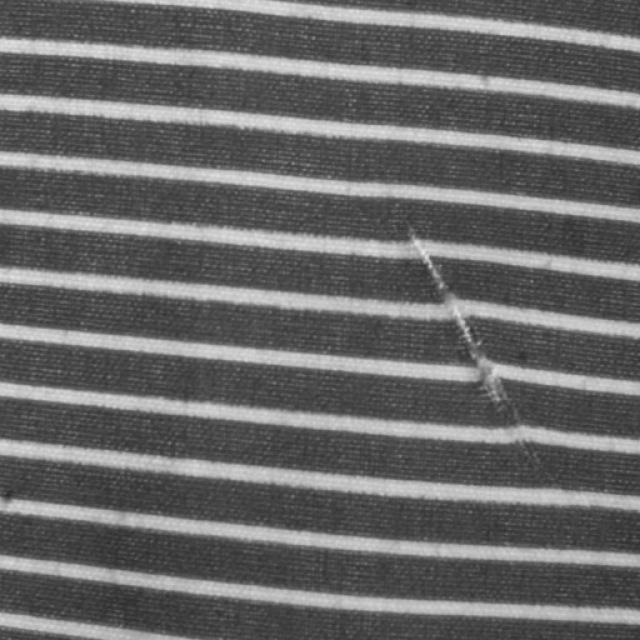Thread-Defect: (408, 224, 558, 484)
